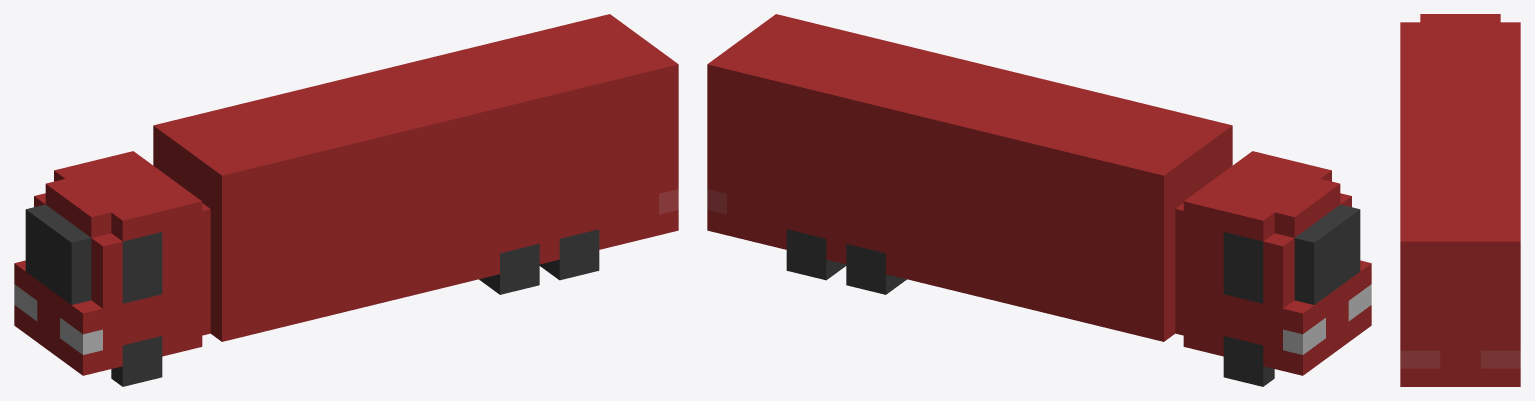
Rendered from truck-v4-red.gltf.
3 views of the same model, side by side, from view 1: azimuth 30°, elevation 25°; view 2: azimuth 150°, elevation 25°; view 3: azimuth 270°, elevation 25° (orthographic). The views are drawn at different scales.
Parts seen in each view (by area): view 1: model, wheels; view 2: model, wheels; view 3: model.
Boxes of the visible parts, x1=… form: model: x1=14, y1=14, x2=678, y2=375; wheels: x1=111, y1=229, x2=599, y2=386; model: x1=707, y1=14, x2=1371, y2=375; wheels: x1=786, y1=229, x2=1274, y2=386; model: x1=1400, y1=14, x2=1520, y2=386.
Bounding box in the file's own units: 3 × 0.9 × 0.6.
Materials: 2 (2 with a texture image).
